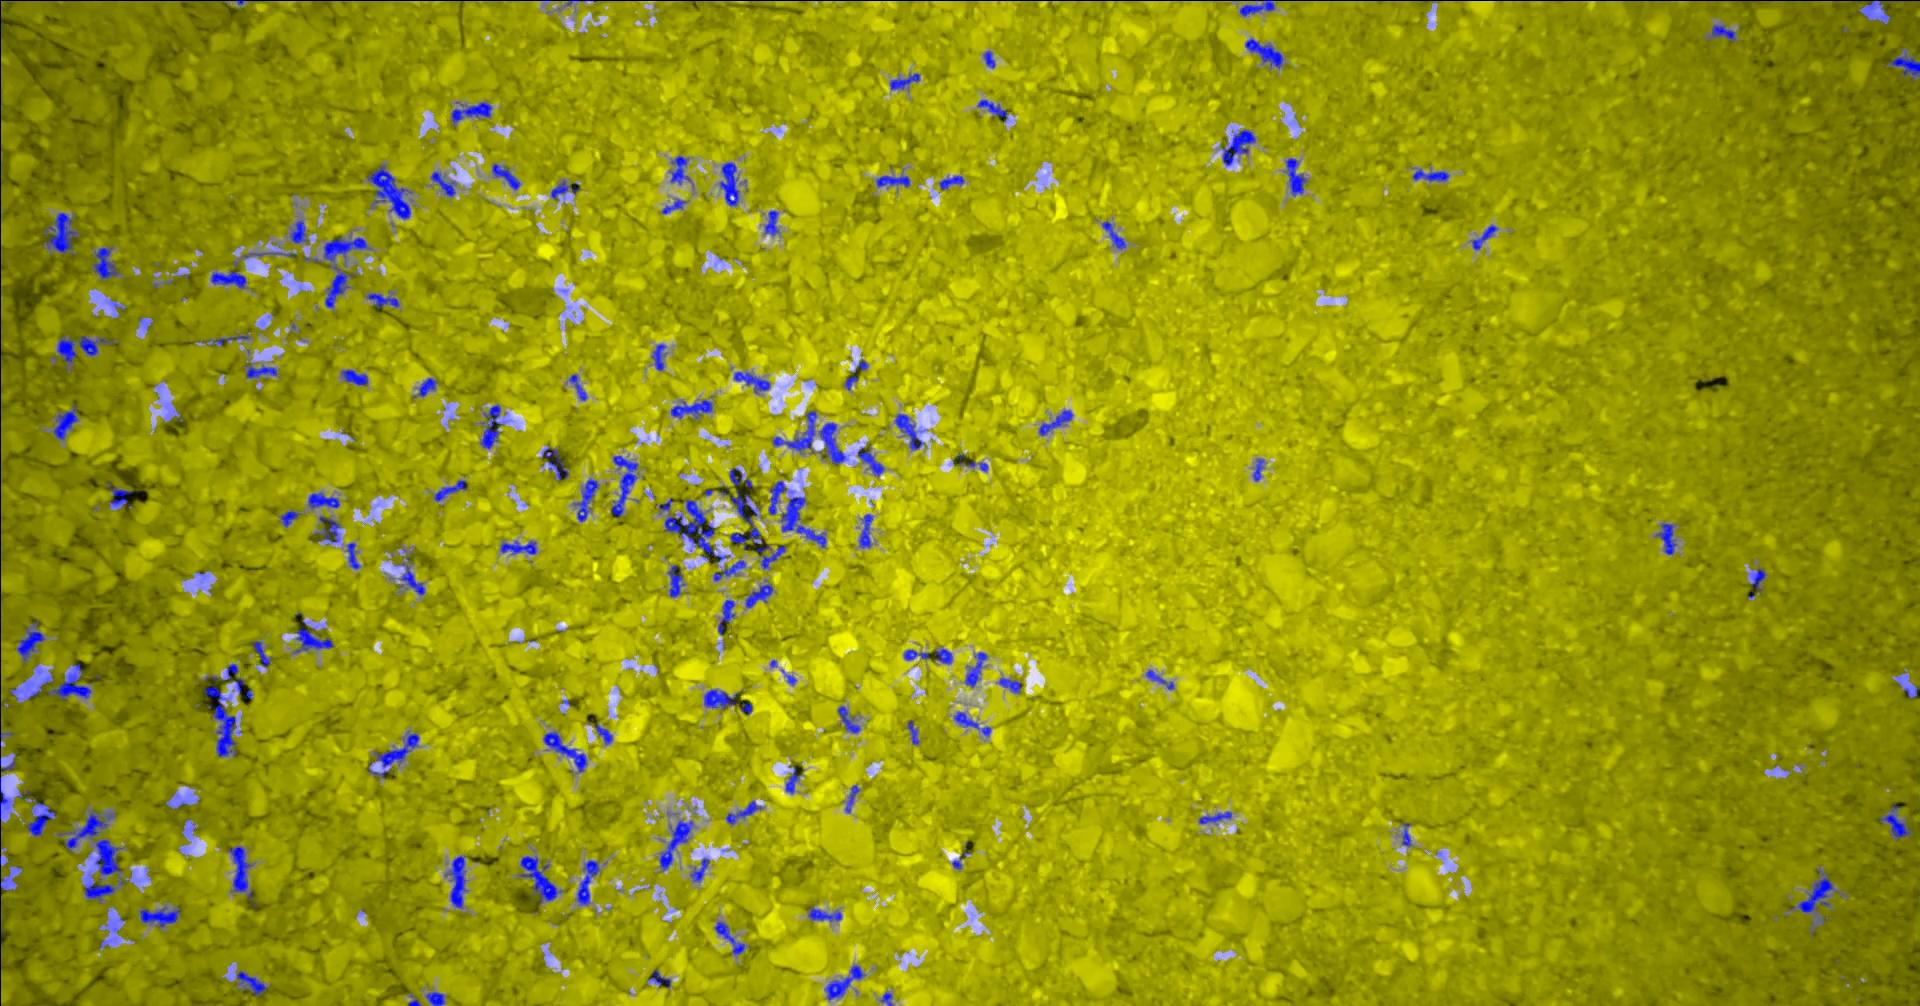ant: (664, 499, 730, 561), (323, 236, 370, 307), (366, 165, 411, 218), (780, 495, 825, 547), (367, 732, 418, 777), (204, 685, 236, 756), (519, 855, 561, 902), (63, 810, 114, 848), (1790, 869, 1832, 912), (772, 410, 817, 451), (17, 789, 55, 835), (610, 455, 637, 516), (543, 730, 585, 771), (56, 335, 116, 363), (1850, 0, 1919, 24), (659, 821, 692, 870), (47, 663, 90, 699), (293, 617, 333, 652), (824, 964, 863, 998), (227, 845, 251, 901), (43, 212, 76, 253), (94, 840, 123, 885), (1878, 803, 1911, 840), (1222, 130, 1255, 165), (1244, 38, 1283, 69), (444, 855, 466, 908), (17, 620, 44, 661), (571, 478, 597, 521), (894, 413, 924, 448), (450, 102, 491, 127), (819, 422, 844, 464), (1887, 48, 1919, 81), (577, 859, 599, 904), (479, 404, 502, 448), (714, 921, 744, 954), (952, 711, 990, 735), (138, 906, 180, 927), (725, 800, 762, 824), (91, 246, 119, 278), (541, 447, 568, 480), (52, 405, 77, 439), (433, 475, 466, 500), (399, 561, 424, 594), (1037, 410, 1072, 434), (719, 163, 738, 206), (964, 652, 987, 687), (670, 399, 712, 418), (733, 371, 770, 392), (1285, 158, 1305, 196), (491, 163, 519, 189), (857, 446, 883, 475), (236, 970, 267, 995), (844, 359, 867, 390), (105, 481, 132, 507), (1101, 220, 1125, 248), (712, 560, 745, 580), (210, 271, 246, 288), (1470, 224, 1496, 249), (198, 333, 249, 345), (1655, 522, 1675, 554), (315, 514, 339, 541), (703, 688, 737, 708), (768, 480, 786, 514), (745, 584, 772, 607), (84, 882, 116, 901), (837, 705, 858, 733), (977, 99, 1006, 119), (430, 171, 455, 196), (1746, 568, 1765, 598), (1239, 0, 1274, 17), (717, 600, 734, 634), (670, 155, 690, 184), (550, 179, 579, 198), (889, 72, 919, 90), (667, 565, 684, 596), (1145, 669, 1173, 688), (307, 492, 339, 508), (366, 293, 399, 309), (500, 540, 536, 554), (568, 373, 585, 400), (245, 362, 276, 377), (858, 514, 872, 547), (808, 906, 841, 920), (690, 857, 709, 882), (251, 640, 269, 666), (0, 776, 10, 819), (290, 218, 307, 243), (1197, 810, 1230, 823), (1412, 169, 1448, 180), (340, 370, 367, 385), (648, 969, 670, 987), (875, 175, 909, 187), (844, 784, 858, 812), (415, 377, 436, 396), (594, 723, 612, 744), (651, 343, 665, 370), (1710, 24, 1735, 39), (764, 210, 778, 235), (345, 542, 359, 568), (0, 868, 15, 890), (785, 766, 797, 793), (938, 175, 963, 189), (998, 677, 1020, 692), (662, 199, 684, 213), (279, 511, 300, 526), (903, 649, 930, 661), (933, 648, 952, 663), (907, 720, 918, 744), (425, 991, 444, 1005), (1252, 459, 1263, 481), (244, 251, 295, 257), (965, 460, 987, 471), (1401, 822, 1410, 846), (983, 50, 994, 67), (226, 663, 237, 680), (880, 991, 893, 1005)
